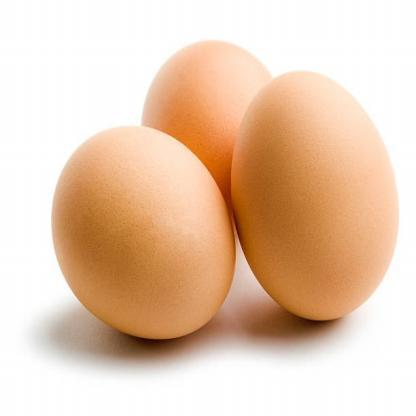egg: (231, 67, 400, 327), (50, 125, 238, 342), (139, 40, 281, 248)
